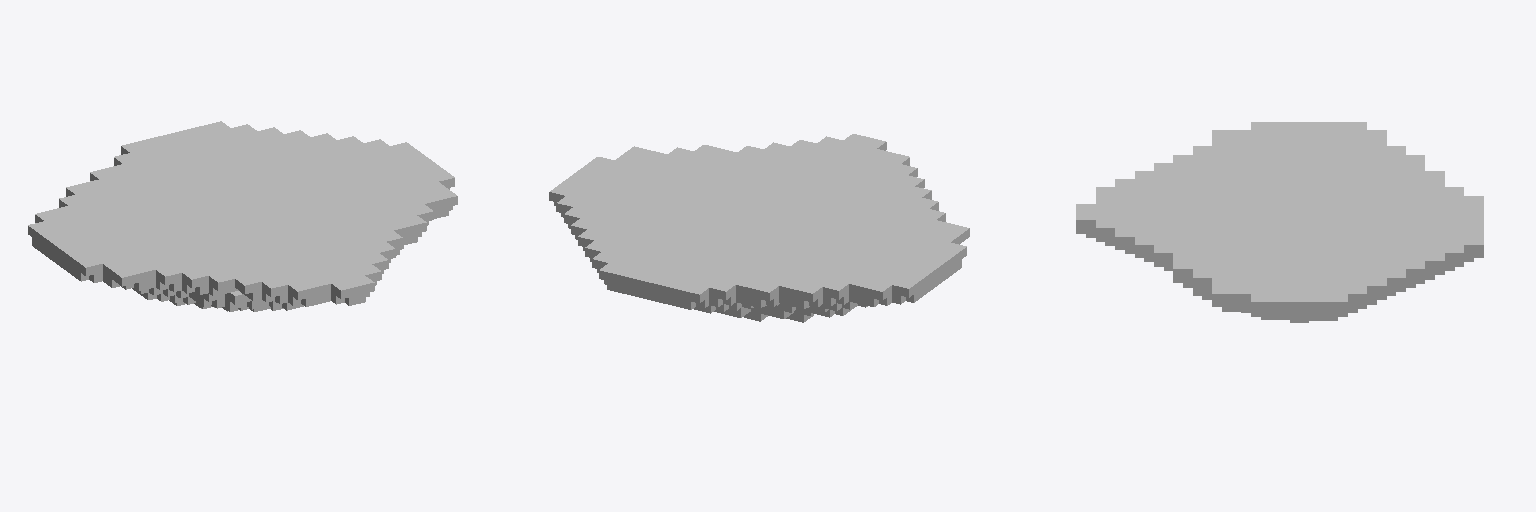
File: Ice 1.obj
3 renders of one model, left to right at view 1: azimuth 30°, elevation 25°; view 2: azimuth 150°, elevation 25°; view 3: azimuth 270°, elevation 25°, orthographic.
Visible parts, largest first — view 1: object 1; view 2: object 1; view 3: object 1.
Part boxes in pixels (x1,y1,x2,y2): object 1: (28, 121, 457, 311); object 1: (549, 134, 969, 322); object 1: (1076, 122, 1483, 322).
Size of the model in its own units: 4.4 by 1 by 4.2.